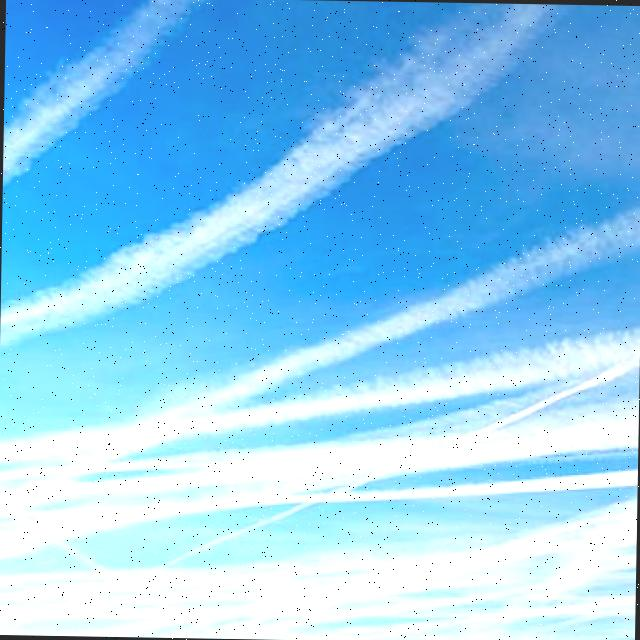Ct: (1, 1, 640, 559)
